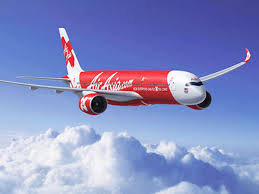maybay_dansu: (7, 31, 259, 113)
